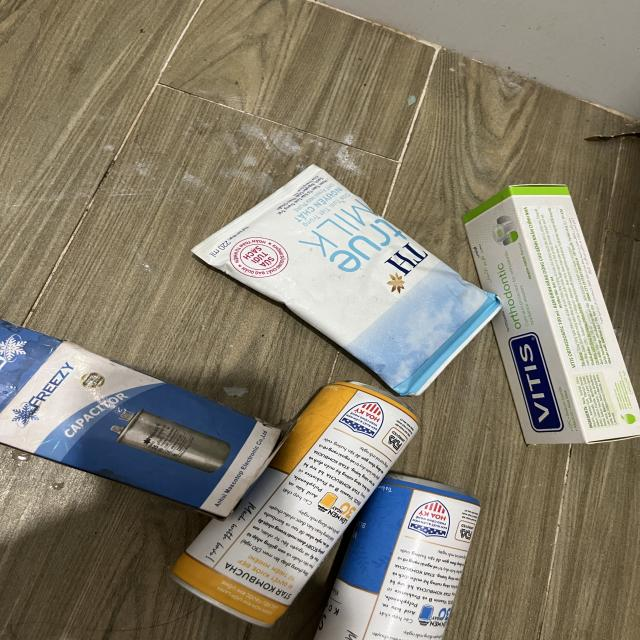can: (165, 379, 428, 627), (315, 474, 481, 640)
cardboard box: (0, 322, 288, 511), (466, 183, 640, 449)
packet: (191, 163, 502, 400)
